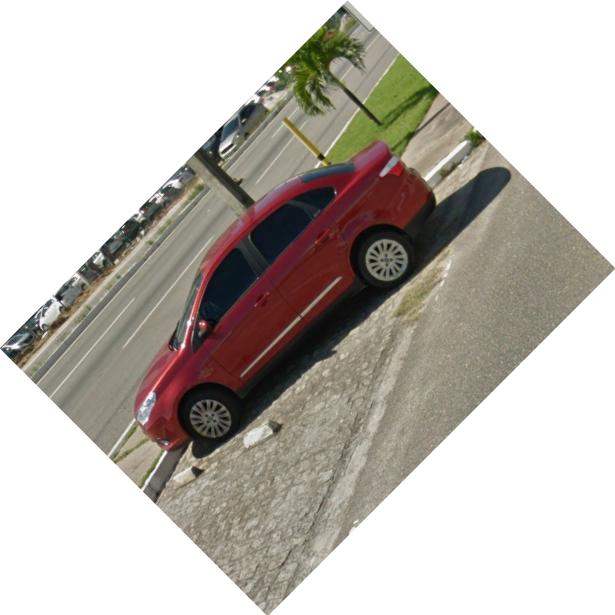car: (131, 140, 436, 453)
